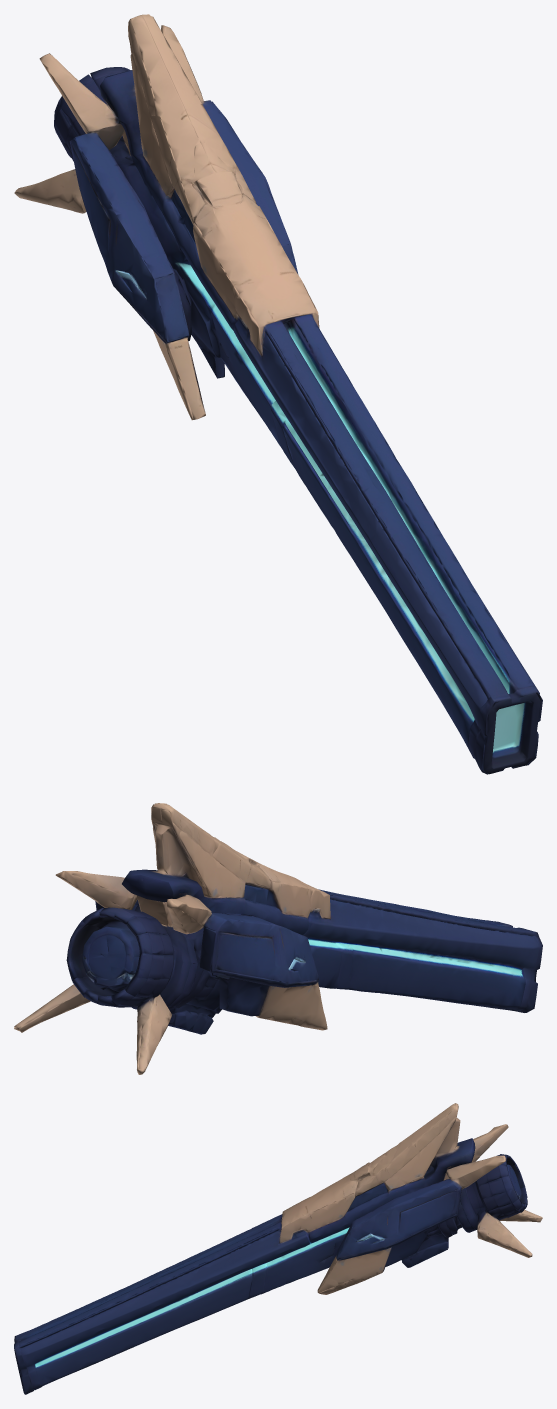
Rendered from LargeFannel.glb.
The picture shows the model from 3 angles, top to bottom: view 1: azimuth 30°, elevation 25°; view 2: azimuth 150°, elevation 25°; view 3: azimuth 270°, elevation 25°; orthographic projection. The views are drawn at different scales.
Parts seen in each view (by area): view 1: tripo_node_3a6339a1-d45b-4159-ab9d-faac2fbca49d; view 2: tripo_node_3a6339a1-d45b-4159-ab9d-faac2fbca49d; view 3: tripo_node_3a6339a1-d45b-4159-ab9d-faac2fbca49d.
Boxes of the visible parts, left/top/right/bottom form: tripo_node_3a6339a1-d45b-4159-ab9d-faac2fbca49d: left=14, top=14, right=542, bottom=774; tripo_node_3a6339a1-d45b-4159-ab9d-faac2fbca49d: left=14, top=803, right=542, bottom=1074; tripo_node_3a6339a1-d45b-4159-ab9d-faac2fbca49d: left=14, top=1103, right=542, bottom=1394.
Size of the model in its own units: 0.2206 by 0.5823 by 0.9803.
1 material, 1 textured.
